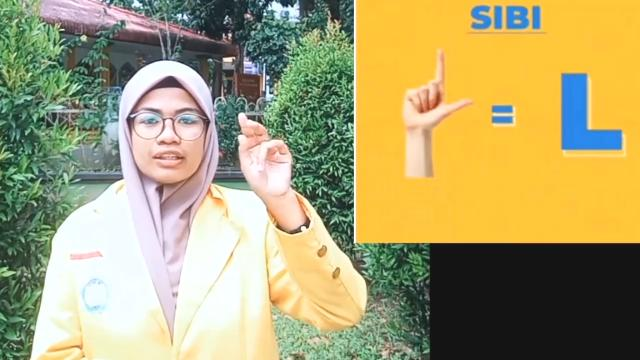L: (396, 40, 474, 182)
